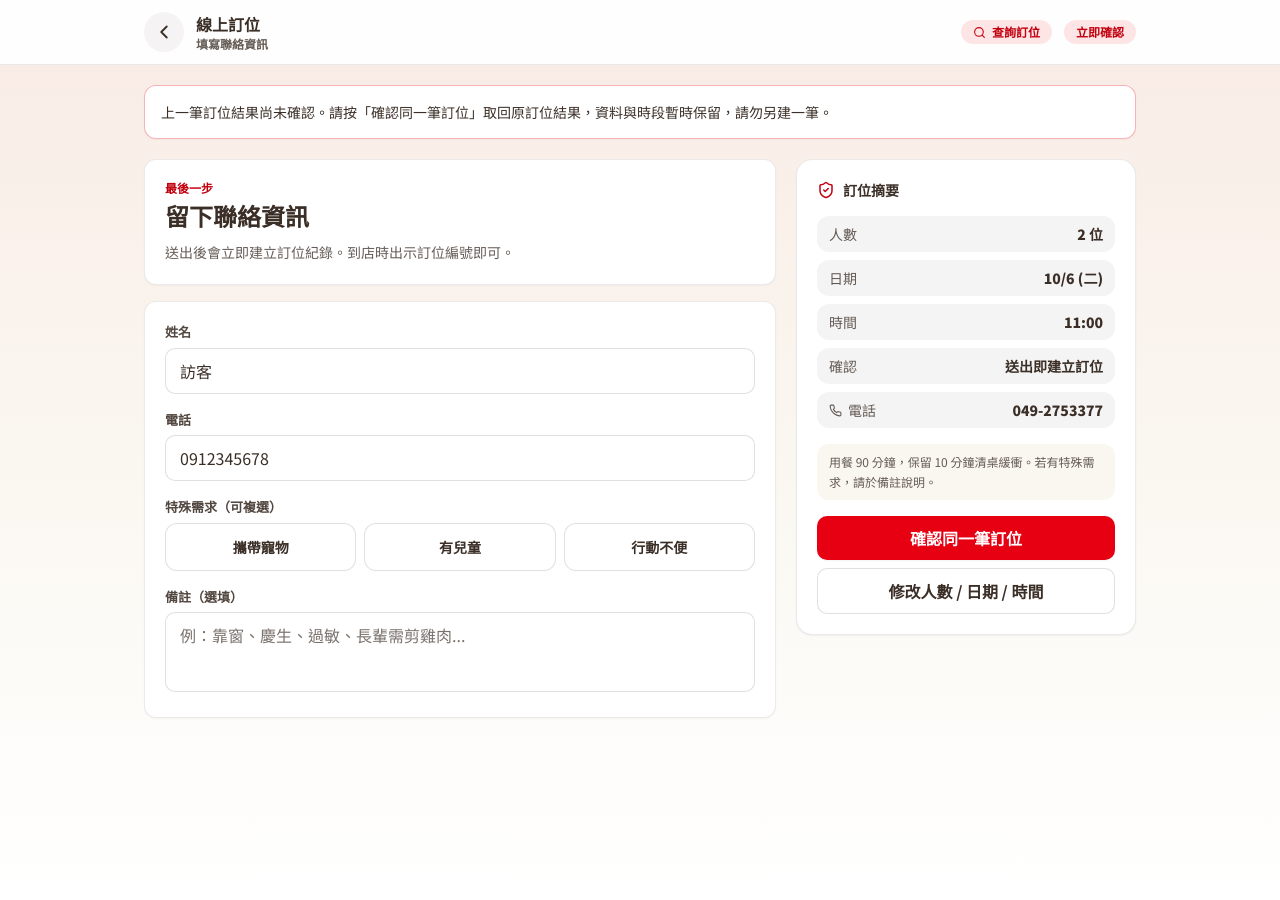
Test: mounted guest booking recovery › explicit server deadline rejection refreshes slots and clears only the invalid selection
Click the button "確認同一筆訂位" at (966, 538), box left=817, top=516, right=1115, bottom=560
(page scrolled)
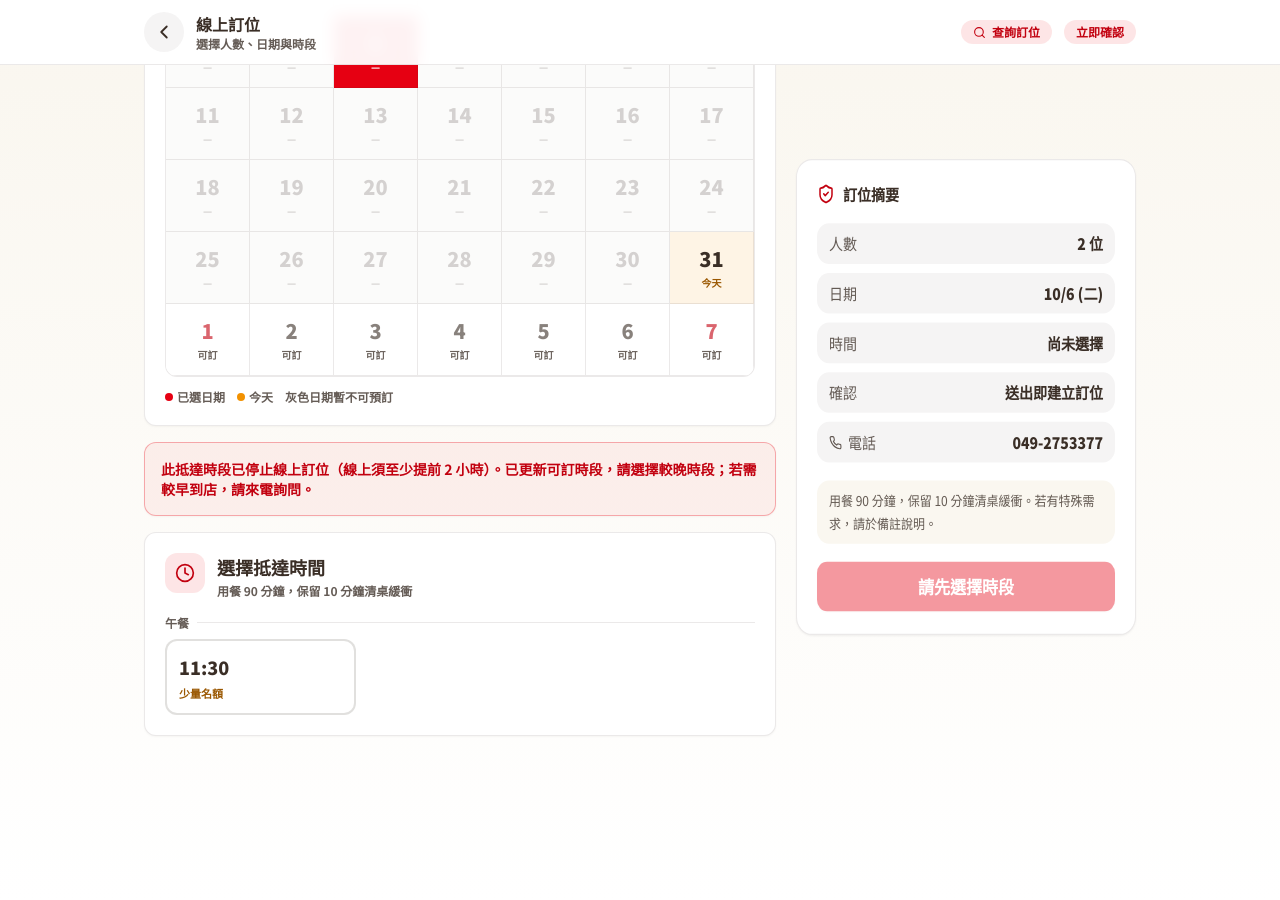
Check: the text "請選擇較晚時段" is shown, box left=161, top=458, right=757, bottom=498
Check: the text "11:30" is shown, box left=179, top=654, right=229, bottom=680
Click the button "11:30 少量名額" at (261, 677), box left=165, top=638, right=356, bottom=715
(page scrolled)
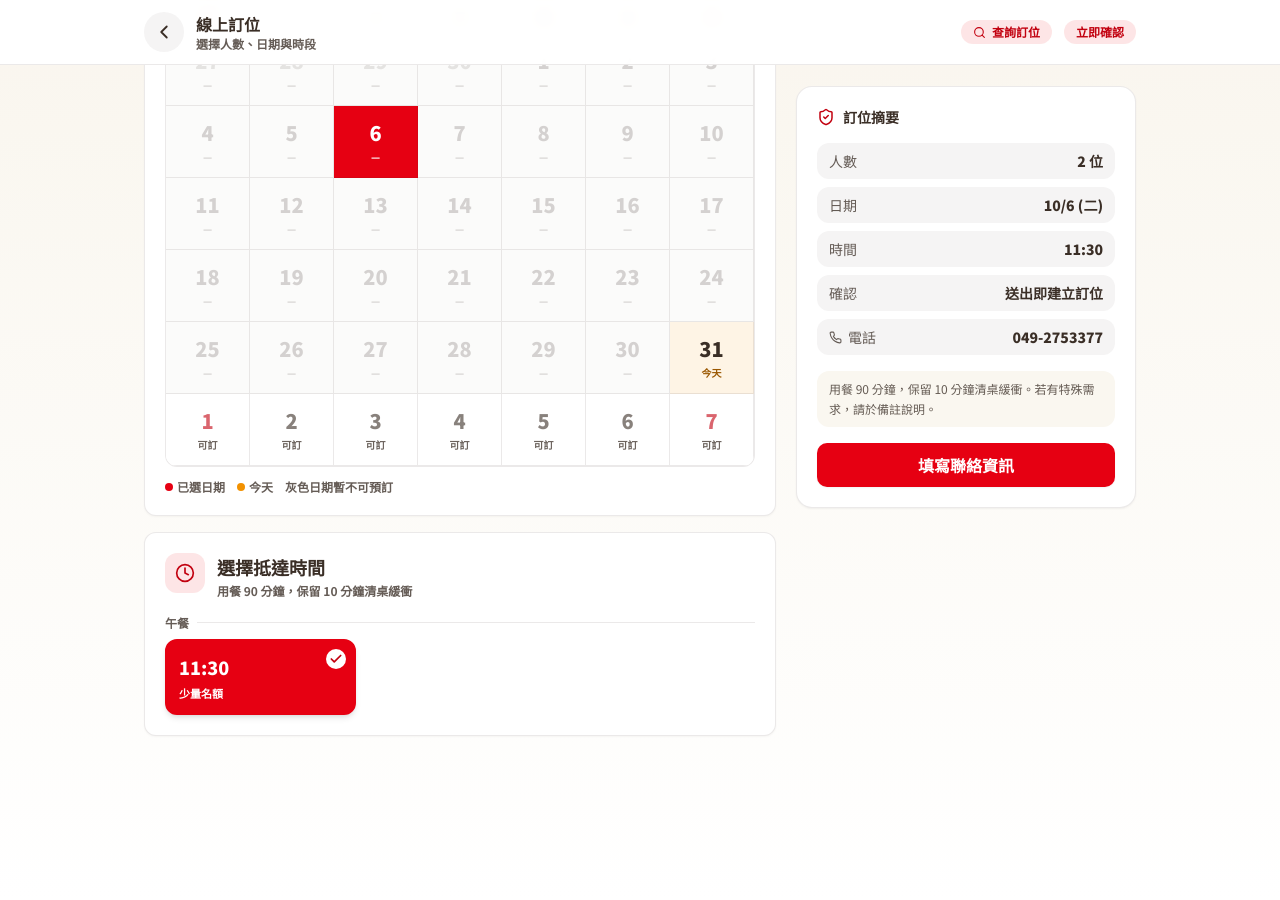
Check: the text "請選擇較晚時段" is gone
